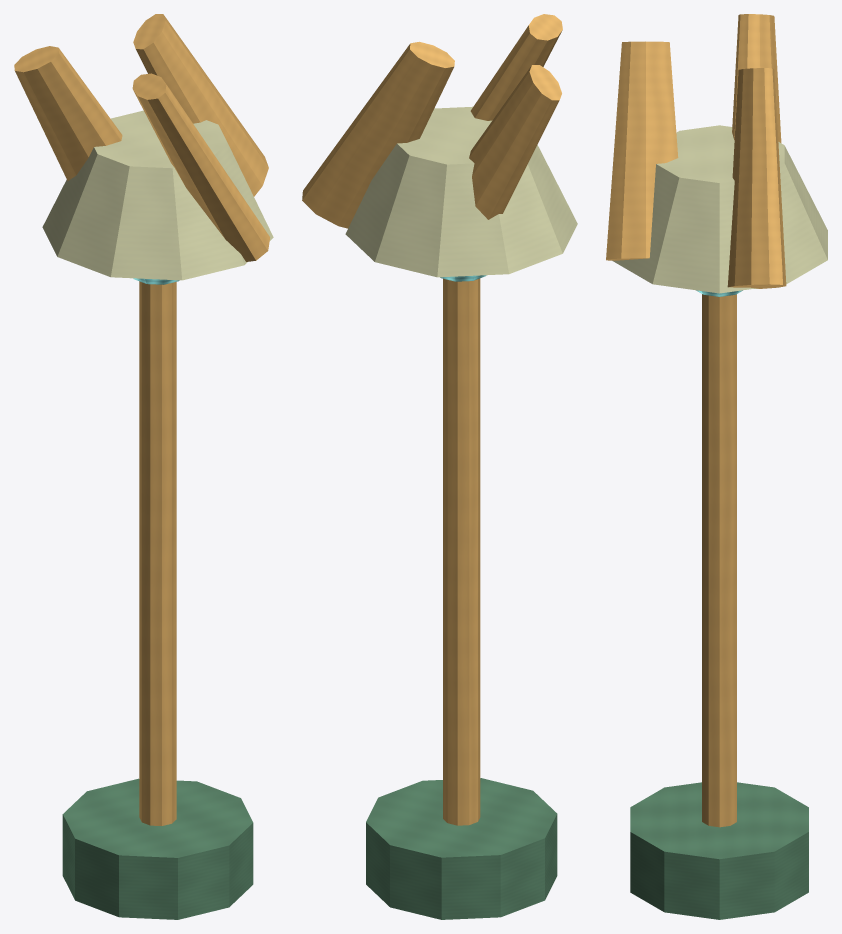
Rendered from atlas100-solarpunk-util01.glb.
3 views of the same model, side by side, from view 1: azimuth 30°, elevation 25°; view 2: azimuth 150°, elevation 25°; view 3: azimuth 270°, elevation 25° (orthographic). The views are drawn at different scales.
Visible parts, largest first — view 1: atlas100-solarpunk-util01:part-000, atlas100-solarpunk-util01:part-002, atlas100-solarpunk-util01:part-001, atlas100-solarpunk-util01:part-004, atlas100-solarpunk-util01:part-006, atlas100-solarpunk-util01:part-005; view 2: atlas100-solarpunk-util01:part-002, atlas100-solarpunk-util01:part-000, atlas100-solarpunk-util01:part-001, atlas100-solarpunk-util01:part-005, atlas100-solarpunk-util01:part-006, atlas100-solarpunk-util01:part-004; view 3: atlas100-solarpunk-util01:part-000, atlas100-solarpunk-util01:part-001, atlas100-solarpunk-util01:part-002, atlas100-solarpunk-util01:part-004, atlas100-solarpunk-util01:part-005, atlas100-solarpunk-util01:part-006.
Boxes of the visible parts, <box> form: atlas100-solarpunk-util01:part-000: <box>62,778,253,919</box>; atlas100-solarpunk-util01:part-002: <box>42,110,273,280</box>; atlas100-solarpunk-util01:part-001: <box>139,281,176,825</box>; atlas100-solarpunk-util01:part-004: <box>132,73,269,261</box>; atlas100-solarpunk-util01:part-006: <box>14,46,122,180</box>; atlas100-solarpunk-util01:part-005: <box>133,14,268,196</box>; atlas100-solarpunk-util01:part-002: <box>345,106,577,277</box>; atlas100-solarpunk-util01:part-000: <box>366,778,557,919</box>; atlas100-solarpunk-util01:part-001: <box>443,278,480,825</box>; atlas100-solarpunk-util01:part-005: <box>302,41,454,228</box>; atlas100-solarpunk-util01:part-006: <box>469,65,561,219</box>; atlas100-solarpunk-util01:part-004: <box>470,14,562,120</box>; atlas100-solarpunk-util01:part-000: <box>630,782,808,919</box>; atlas100-solarpunk-util01:part-001: <box>702,294,736,827</box>; atlas100-solarpunk-util01:part-002: <box>612,125,827,293</box>; atlas100-solarpunk-util01:part-004: <box>606,41,678,260</box>; atlas100-solarpunk-util01:part-005: <box>727,68,786,288</box>; atlas100-solarpunk-util01:part-006: <box>732,14,781,142</box>.
Bounding box in the file's own units: 0.8535 × 2.72 × 0.6622.
4 materials, 4 textured.
